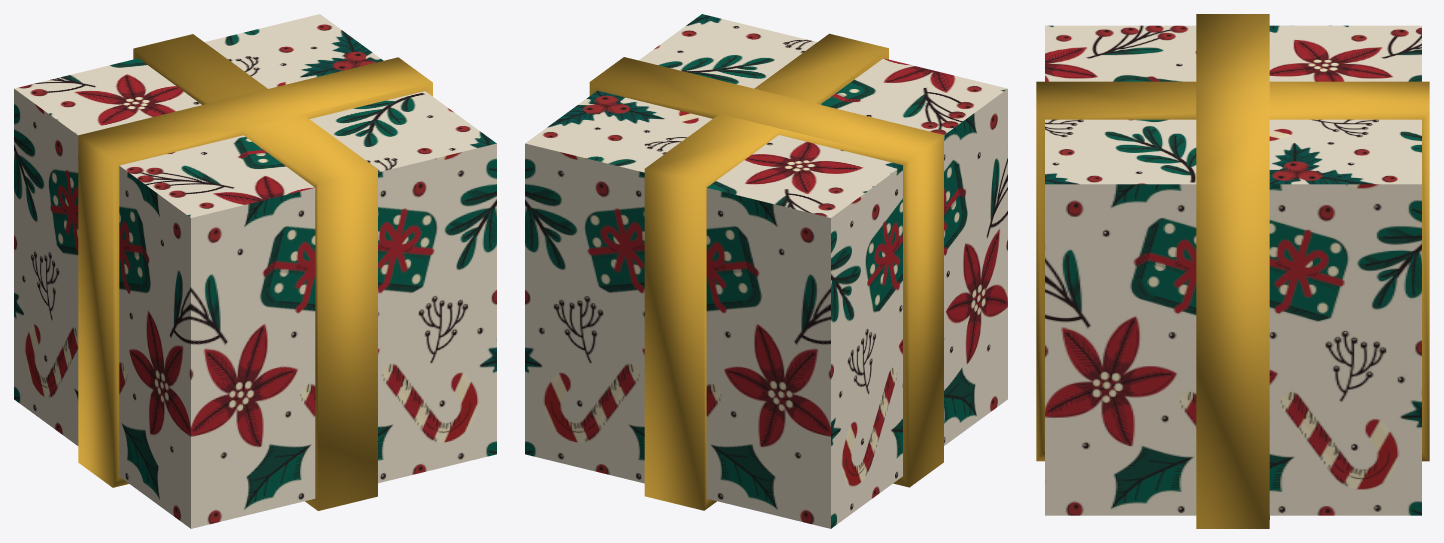
Rendered from giftSmallWhite3.glb.
3 views of the same model, side by side, from view 1: azimuth 30°, elevation 25°; view 2: azimuth 150°, elevation 25°; view 3: azimuth 270°, elevation 25° (orthographic). The views are drawn at different scales.
Visible parts, largest first — view 1: GiftSmallWhite3; view 2: GiftSmallWhite3; view 3: GiftSmallWhite3.
Boxes of the visible parts, x1,y1,x2,y2 form: GiftSmallWhite3: [14, 14, 496, 528]; GiftSmallWhite3: [525, 14, 1007, 528]; GiftSmallWhite3: [1036, 14, 1429, 528].
Size of what is drawn, in the model's own units: 0.6371 by 0.6227 by 0.6371.
Materials: 2 (2 with a texture image).
